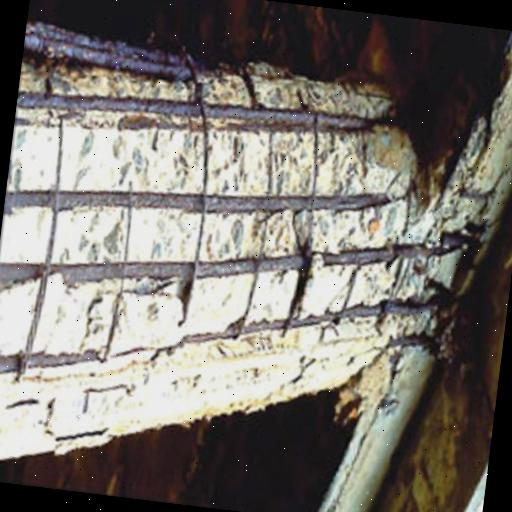spalling: (4, 26, 481, 423)
